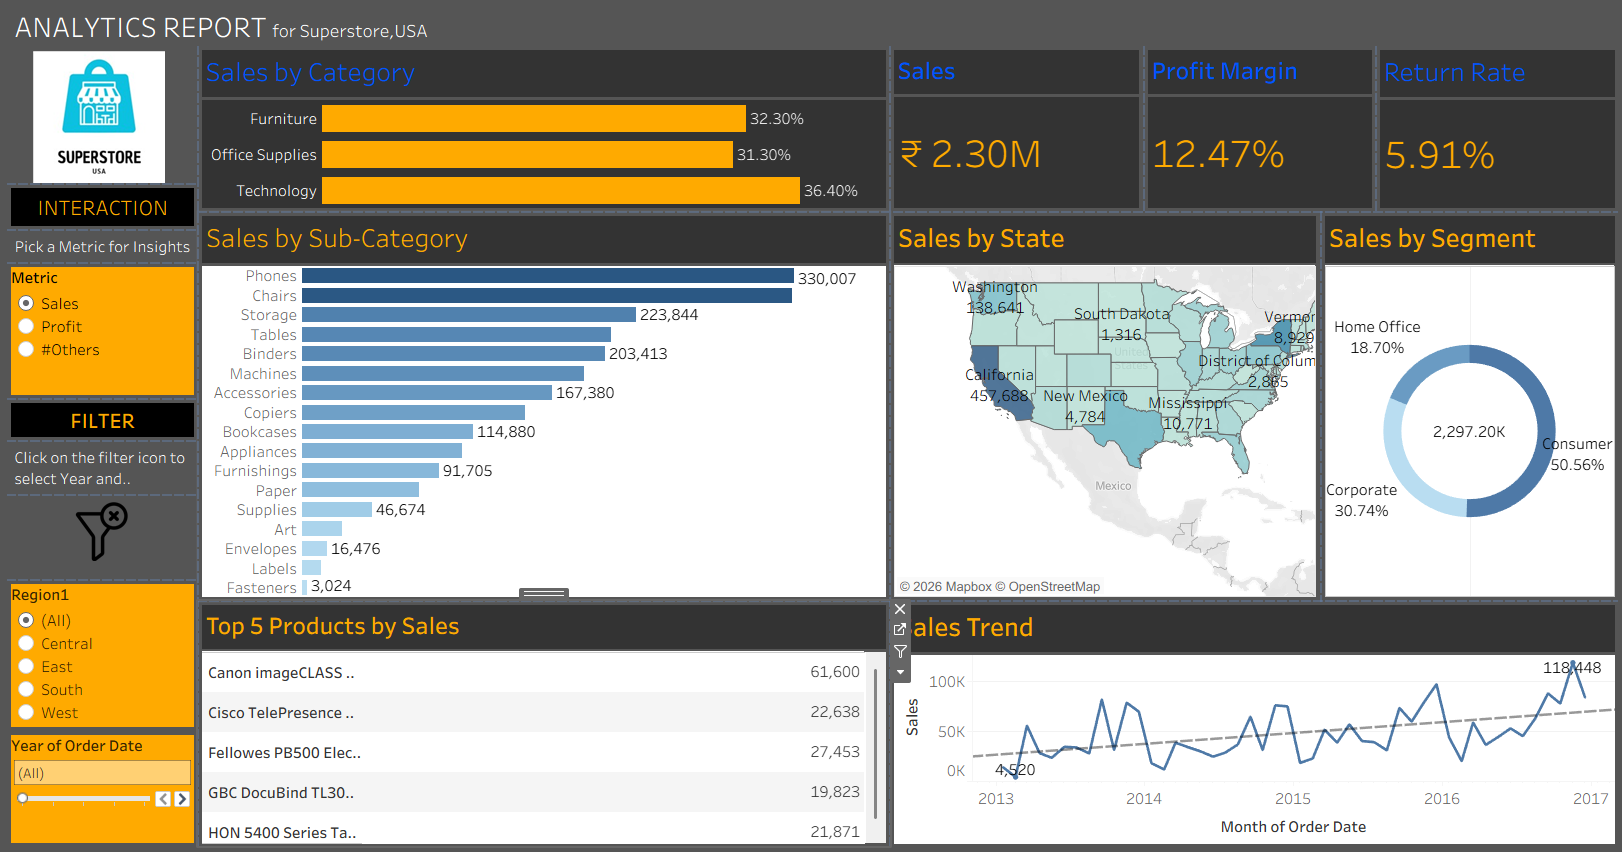

This screenshot's page, from the dashboard's own definition file:
{"tool":"tableau","page":{"name":"USA ANALYTICS REPORT","canvas":[1000,1000],"units":"permille","ordinal":0},"visuals":[{"type":"title","box":[4.9,9.3,990.2,45.5]},{"type":"worksheet","title":"Sales by category","mark":"Bar","rows":["Category"],"cols":["Calculation_0916485079785473"],"box":[122.5,54.8,425.1,193.4]},{"type":"worksheet","title":"Sum of sales","mark":"Automatic","box":[547.6,54.8,155.5,193.4]},{"type":"worksheet","title":"Profit","mark":"Automatic","box":[703,54.8,142.5,193.4]},{"type":"worksheet","title":"Return Rate","mark":"Automatic","box":[845.5,54.8,149.6,193.4]},{"type":"image","param":"Image/Picture1.jpg","box":[2.5,60.7,118.5,154]},{"type":"text","box":[4.9,215.7,117.6,53.5]},{"type":"worksheet","title":"Sales by sub-category","mark":"Bar","rows":["Sub-Category"],"cols":["Calculation_0916485079785473"],"box":[122.5,248.2,425.1,453.9]},{"type":"worksheet","title":"Map","mark":"Multipolygon","box":[547.6,248.2,264.2,453.9]},{"type":"worksheet","title":"Pie Chart","mark":"Pie","cols":["Calculation_0293886966231042","Calculation_0293886966231042"],"box":[811.8,248.2,183.3,453.9]},{"type":"text","box":[4.9,269.2,117.6,38.5]},{"type":"parameter","param":"[Parameters].[Parameter 0916485079642112]","box":[4.9,307.7,117.6,158.7]},{"type":"text","box":[4.9,466.4,117.6,49.5]},{"type":"text","box":[4.9,515.9,117.6,62.8]},{"type":"dashboard-object","box":[34.4,586.9,57.1,68.8]},{"type":"filter","title":"Sales by category","param":"[federated.0g3e0ap0lq23ln1ch3zgh0v6tvsw].[none:Region:nk]","box":[4.9,677.6,117.6,176.2]},{"type":"worksheet","title":"Top 5 Products by sales ","mark":"Automatic","rows":["Product Name"],"box":[122.5,702.2,425,288.5]},{"type":"worksheet","title":"Trend","mark":"Line","rows":["Sales"],"cols":["Order Date"],"box":[547.5,702.2,447.6,288.5]},{"type":"filter","title":"Sales by category","param":"[federated.0g3e0ap0lq23ln1ch3zgh0v6tvsw].[yr:Order Date:ok]","box":[4.9,853.8,117.6,135.3]}]}

Visuals, with their boxes on the dashboard's canvas, which has no fixed pixel size, in thousandths of its width and height (x1, y1, x2, y2). These are canvas units, not pixel positions in the 1622x852 screenshot, which may show the page scaled, cropped or inside an application window:
title: pyautogui.locateOnScreen(5, 9, 995, 55)
"Sales by category" worksheet (Bar marks): pyautogui.locateOnScreen(122, 55, 548, 248)
"Sum of sales" worksheet: pyautogui.locateOnScreen(548, 55, 703, 248)
"Profit" worksheet: pyautogui.locateOnScreen(703, 55, 846, 248)
"Return Rate" worksheet: pyautogui.locateOnScreen(846, 55, 995, 248)
image: pyautogui.locateOnScreen(2, 61, 121, 215)
text: pyautogui.locateOnScreen(5, 216, 122, 269)
"Sales by sub-category" worksheet (Bar marks): pyautogui.locateOnScreen(122, 248, 548, 702)
"Map" worksheet (Multipolygon marks): pyautogui.locateOnScreen(548, 248, 812, 702)
"Pie Chart" worksheet (Pie marks): pyautogui.locateOnScreen(812, 248, 995, 702)
text: pyautogui.locateOnScreen(5, 269, 122, 308)
parameter: pyautogui.locateOnScreen(5, 308, 122, 466)
text: pyautogui.locateOnScreen(5, 466, 122, 516)
text: pyautogui.locateOnScreen(5, 516, 122, 579)
dashboard-object: pyautogui.locateOnScreen(34, 587, 92, 656)
"Sales by category" filter: pyautogui.locateOnScreen(5, 678, 122, 854)
"Top 5 Products by sales " worksheet: pyautogui.locateOnScreen(122, 702, 548, 991)
"Trend" worksheet (Line marks): pyautogui.locateOnScreen(548, 702, 995, 991)
"Sales by category" filter: pyautogui.locateOnScreen(5, 854, 122, 989)
